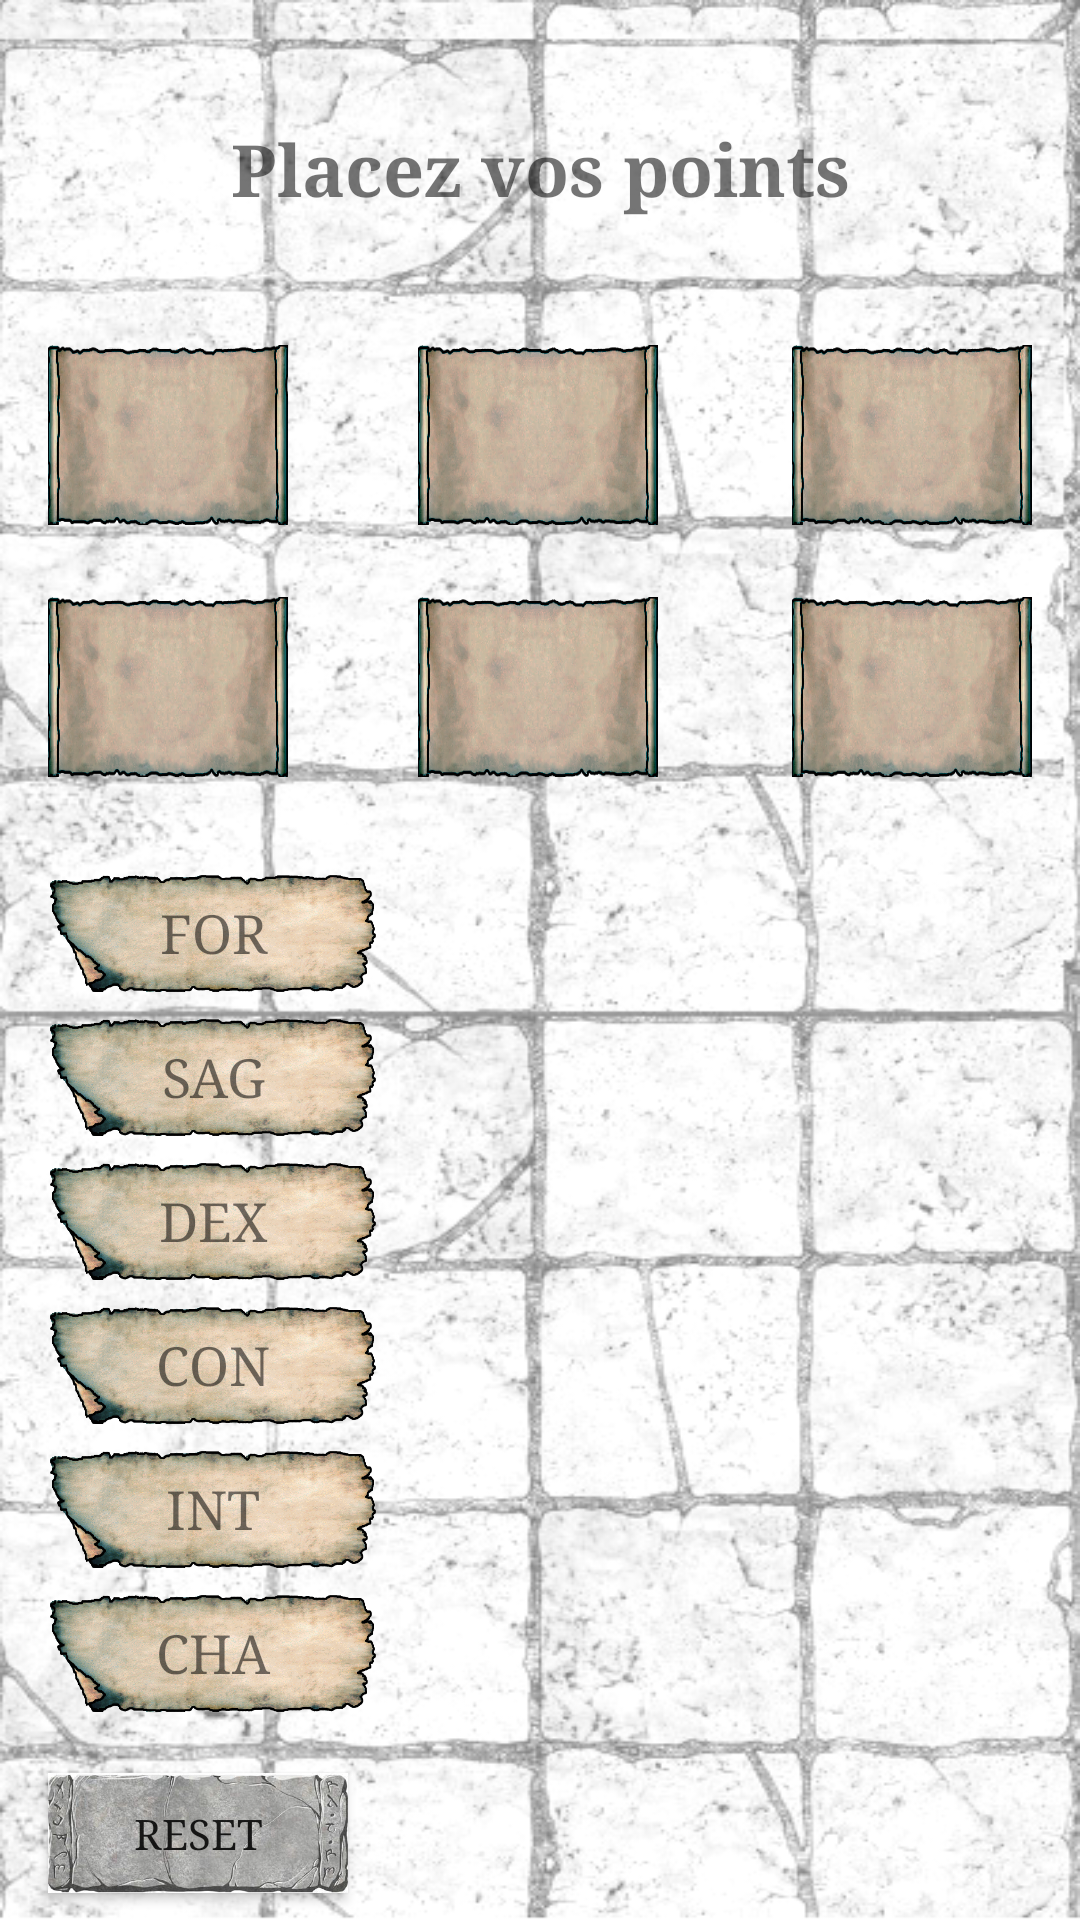

Screen size 1080x1920. Icon name, then its center in pixels as (x=x, y=y):
parcho: (x=168, y=435), (x=538, y=435), (x=912, y=435), (x=168, y=687), (x=538, y=687), (x=912, y=687)
